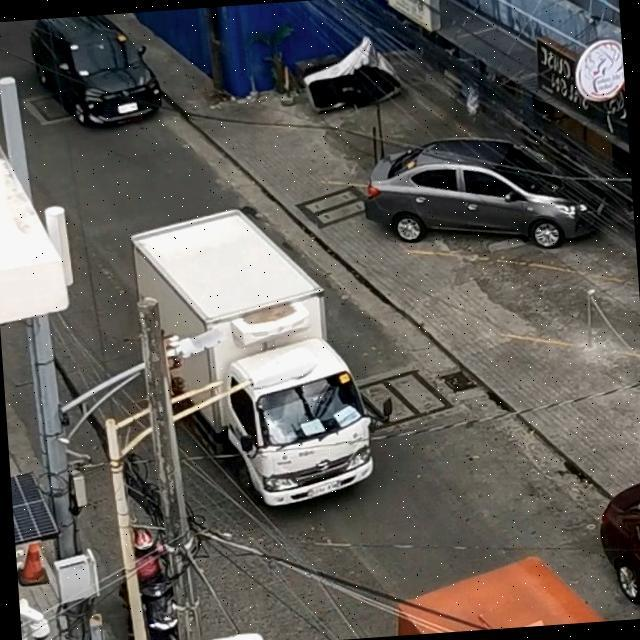Truck: (146, 194, 374, 492), (339, 529, 640, 639)
